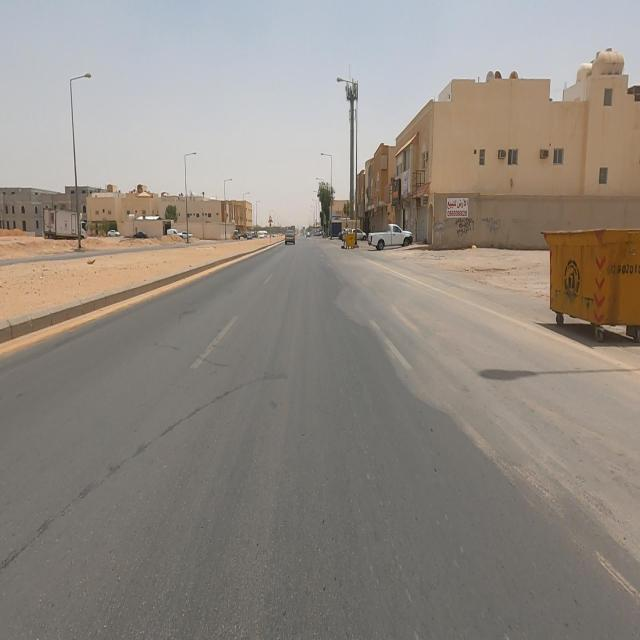Graffiti: (456, 219, 475, 238), (483, 217, 501, 235), (435, 216, 445, 237)
